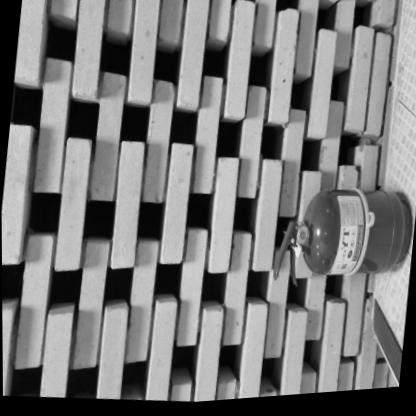FE: (269, 185, 414, 304)
